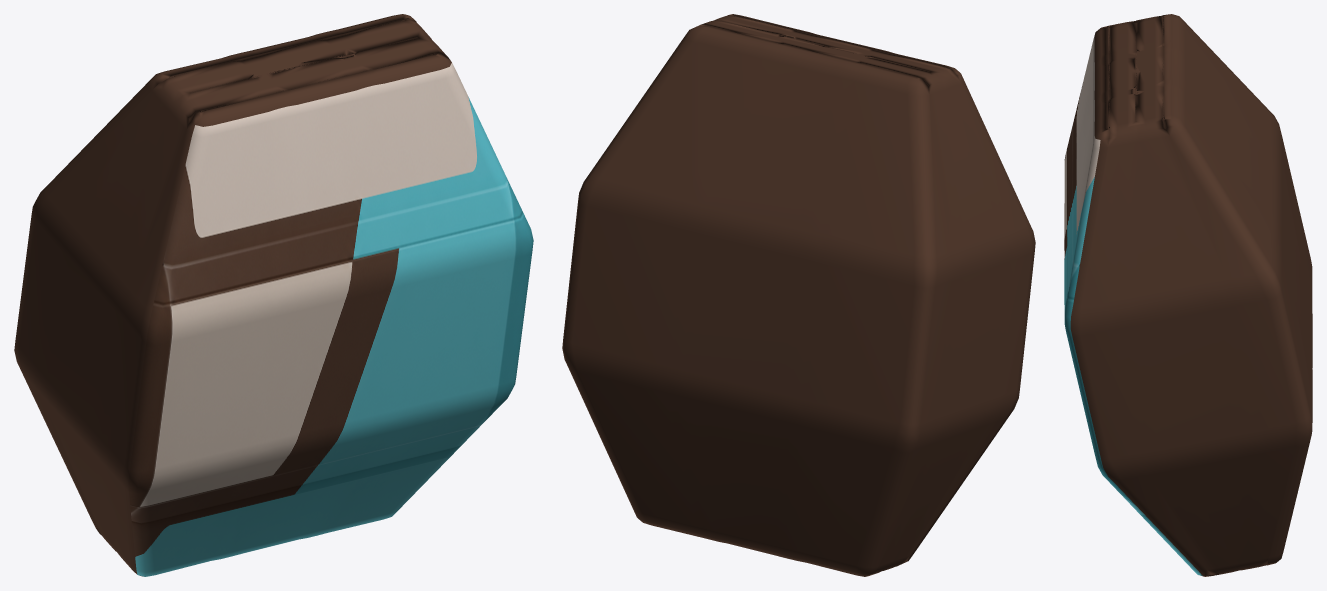
3 views of the same model, side by side, from view 1: azimuth 30°, elevation 25°; view 2: azimuth 150°, elevation 25°; view 3: azimuth 270°, elevation 25° (orthographic). The views are drawn at different scales.
Parts seen in each view (by area): view 1: Product_D05_s00.001; view 2: Product_D05_s00.001; view 3: Product_D05_s00.001.
Part boxes in pixels (x1,y1,x2,y2): Product_D05_s00.001: (14, 14, 533, 576); Product_D05_s00.001: (562, 14, 1035, 576); Product_D05_s00.001: (1064, 14, 1312, 576).
Size of the model in its own units: 0.075 by 0.0956 by 0.0469.
Materials: 1 (1 with a texture image).
